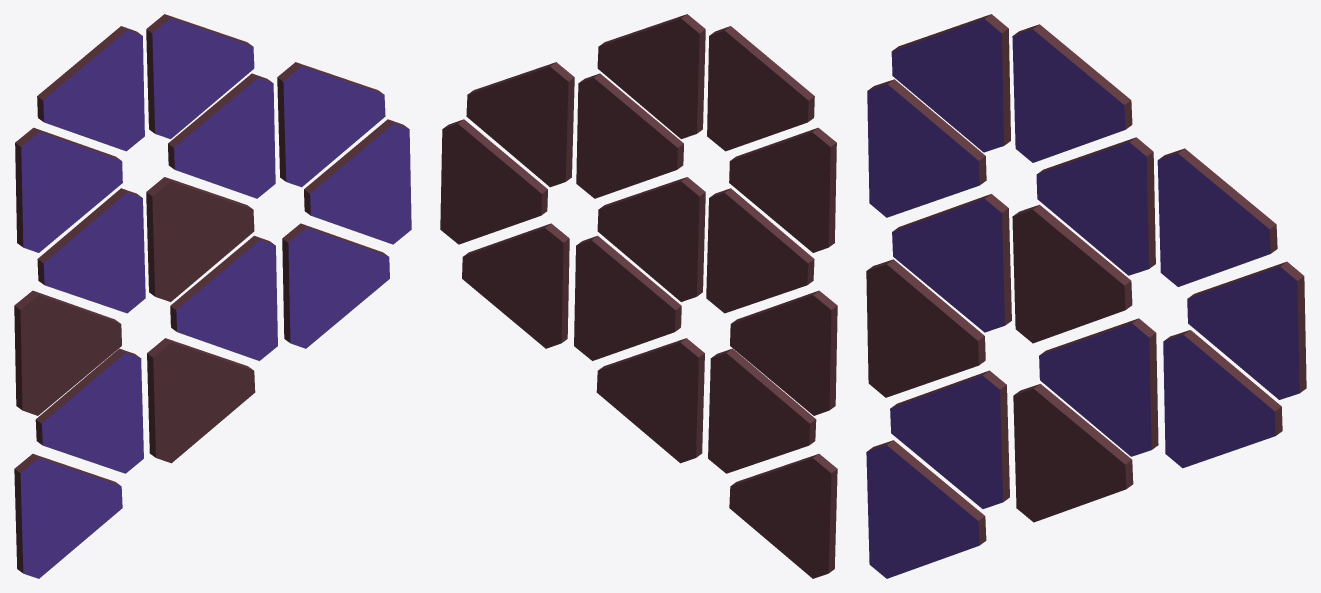
File: led-panels-pattern-polyperfect.fbx
The picture shows the model from 3 angles, left to right: view 1: azimuth 30°, elevation 25°; view 2: azimuth 150°, elevation 25°; view 3: azimuth 330°, elevation 25°; orthographic projection. The views are drawn at different scales.
Parts seen in each view (by area): view 1: led-panels-pattern-polyperfect; view 2: led-panels-pattern-polyperfect; view 3: led-panels-pattern-polyperfect.
Part boxes in pixels (left/top/right/bottom): led-panels-pattern-polyperfect: left=14, top=14, right=411, bottom=578; led-panels-pattern-polyperfect: left=440, top=14, right=837, bottom=578; led-panels-pattern-polyperfect: left=866, top=14, right=1306, bottom=578.
Bounding box in the file's own units: 0.7255 × 0.9362 × 0.02.
